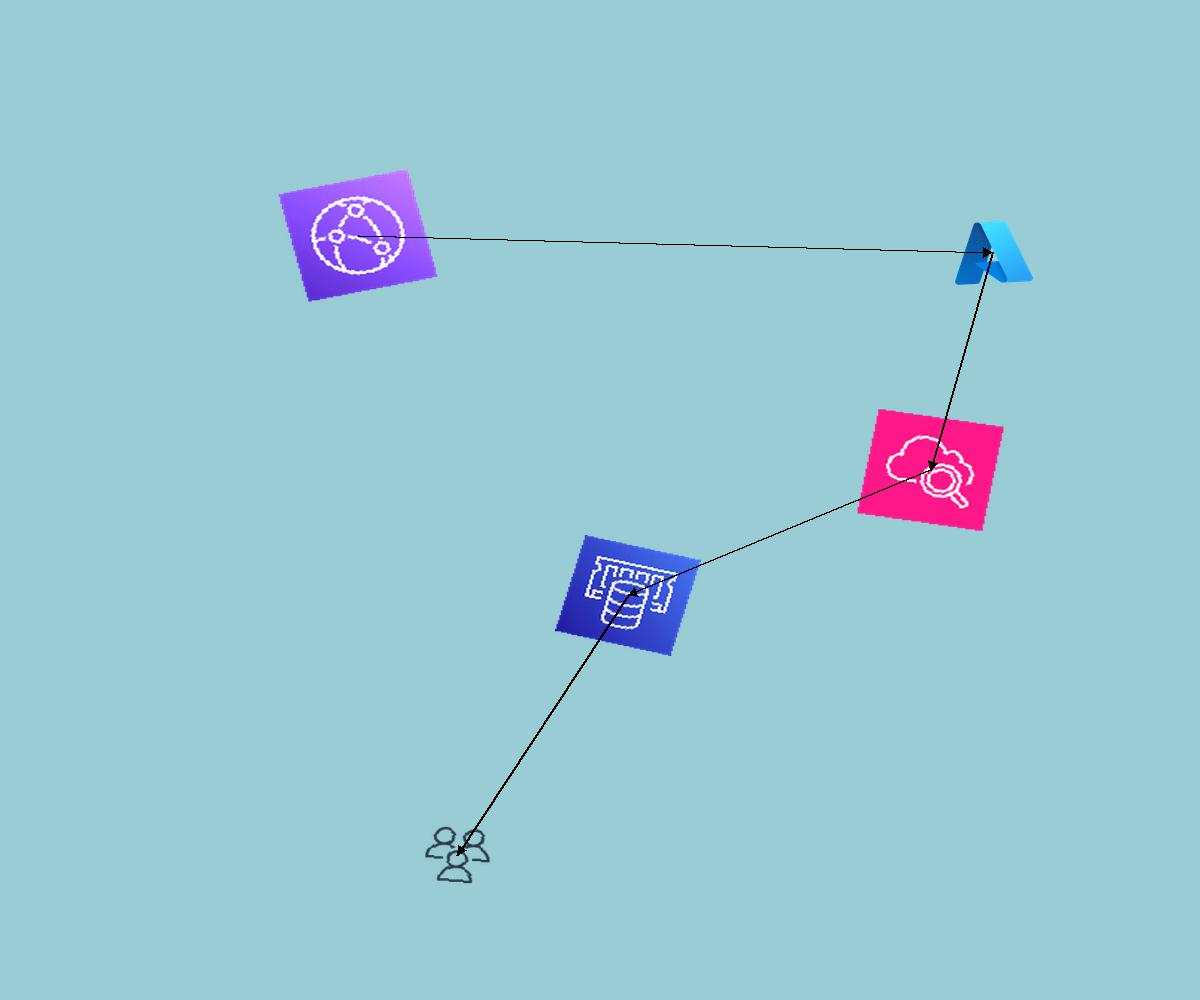AWS-CloudFront: (277, 168, 439, 303)
AWS-CloudWatch: (856, 408, 1005, 532)
AWS-ElastiCache: (555, 535, 701, 656)
AWS-Res_Users: (418, 822, 497, 888)
Azure_services: (947, 215, 1037, 290)
